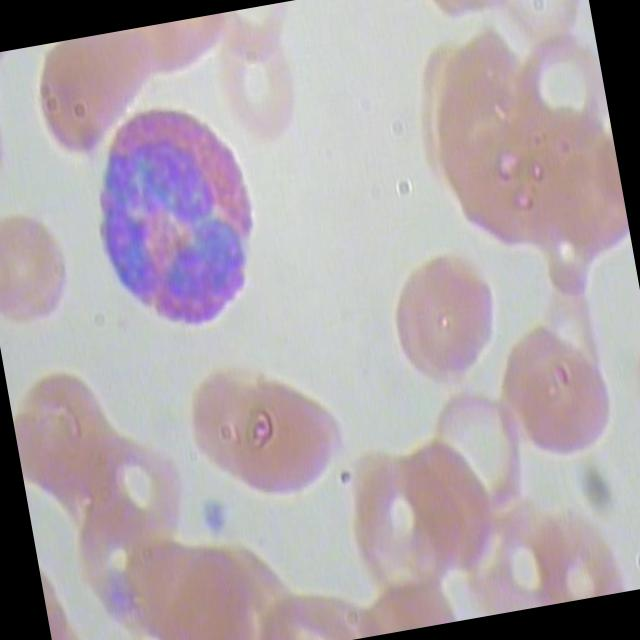Platelets: (190, 492, 234, 544)
RBC: (325, 440, 477, 612), (18, 30, 172, 170), (215, 362, 349, 518), (170, 338, 304, 493), (491, 314, 625, 469), (497, 19, 617, 184), (204, 0, 324, 161), (74, 413, 198, 568), (412, 386, 532, 545), (513, 122, 633, 280), (5, 358, 126, 510), (396, 245, 512, 398), (436, 113, 552, 264), (456, 498, 570, 618), (514, 488, 628, 608), (382, 259, 467, 404), (145, 543, 266, 640), (0, 204, 84, 343)
WBC: (67, 87, 286, 356)
